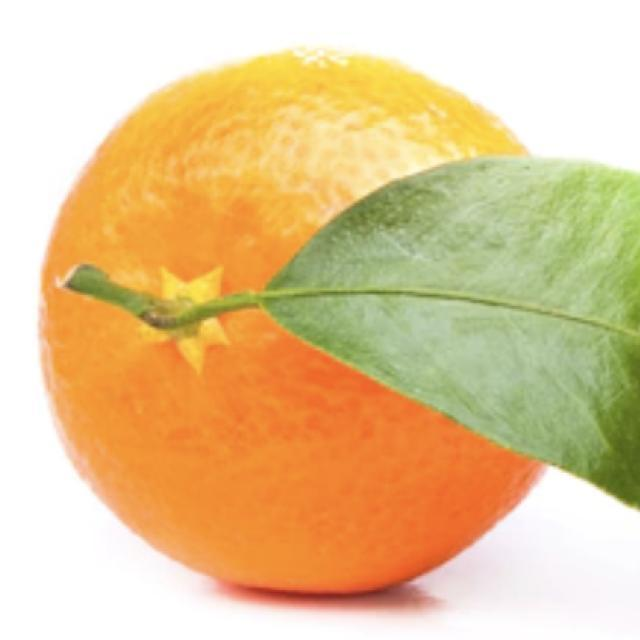Orange: (37, 43, 551, 597)
